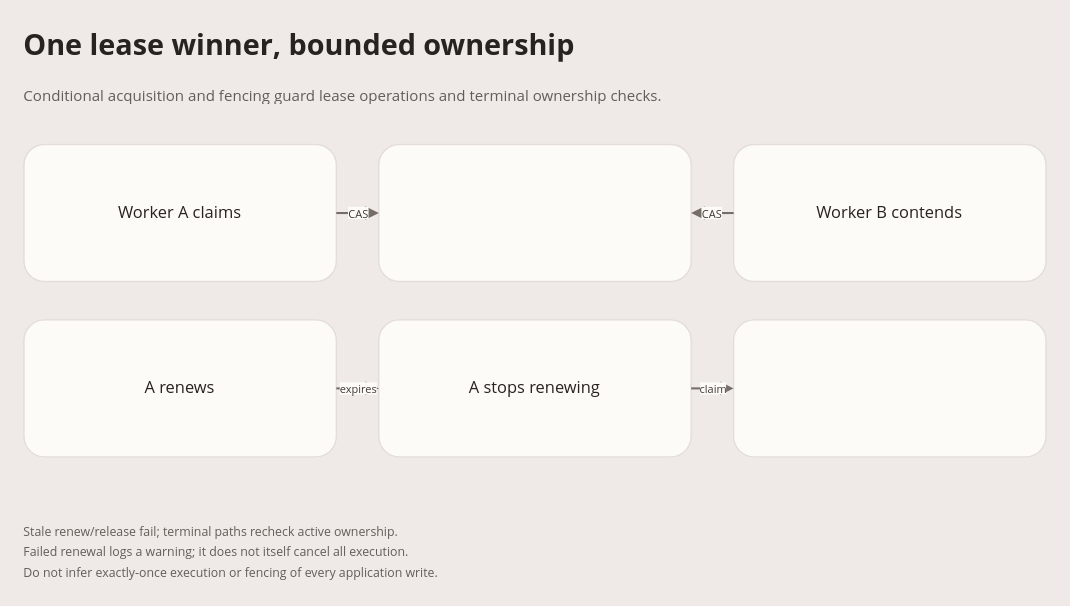
Image size: 1070x606. Some labels were removed from this diagram. Each missing label, with the centre of its shape:
"B takes over" goes at pixel 889 388.
"Run row" goes at pixel 534 212.
